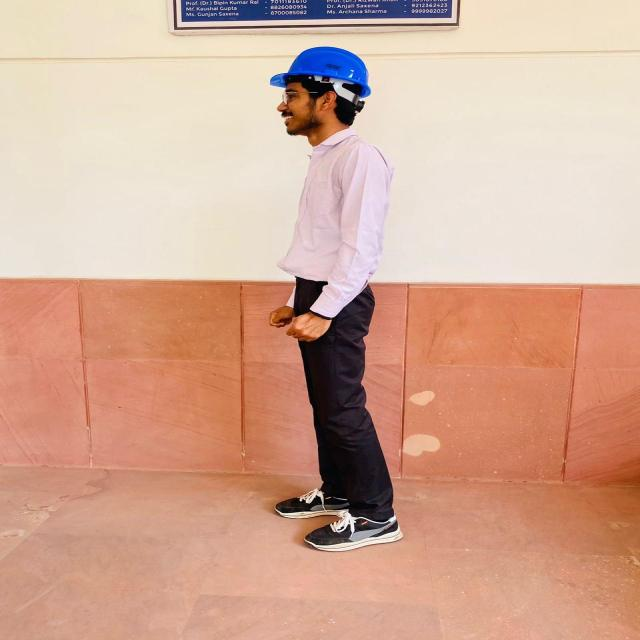no jacket: (270, 47, 397, 551)
